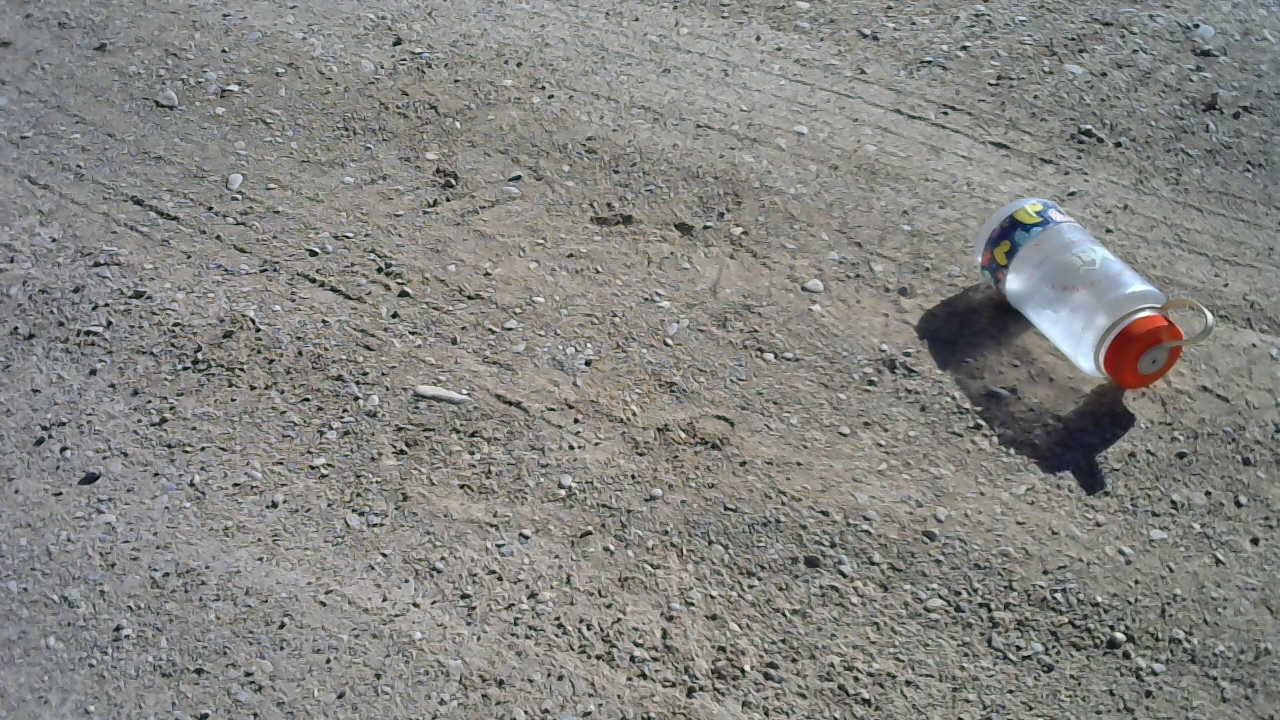bottle: (968, 185, 1217, 391)
